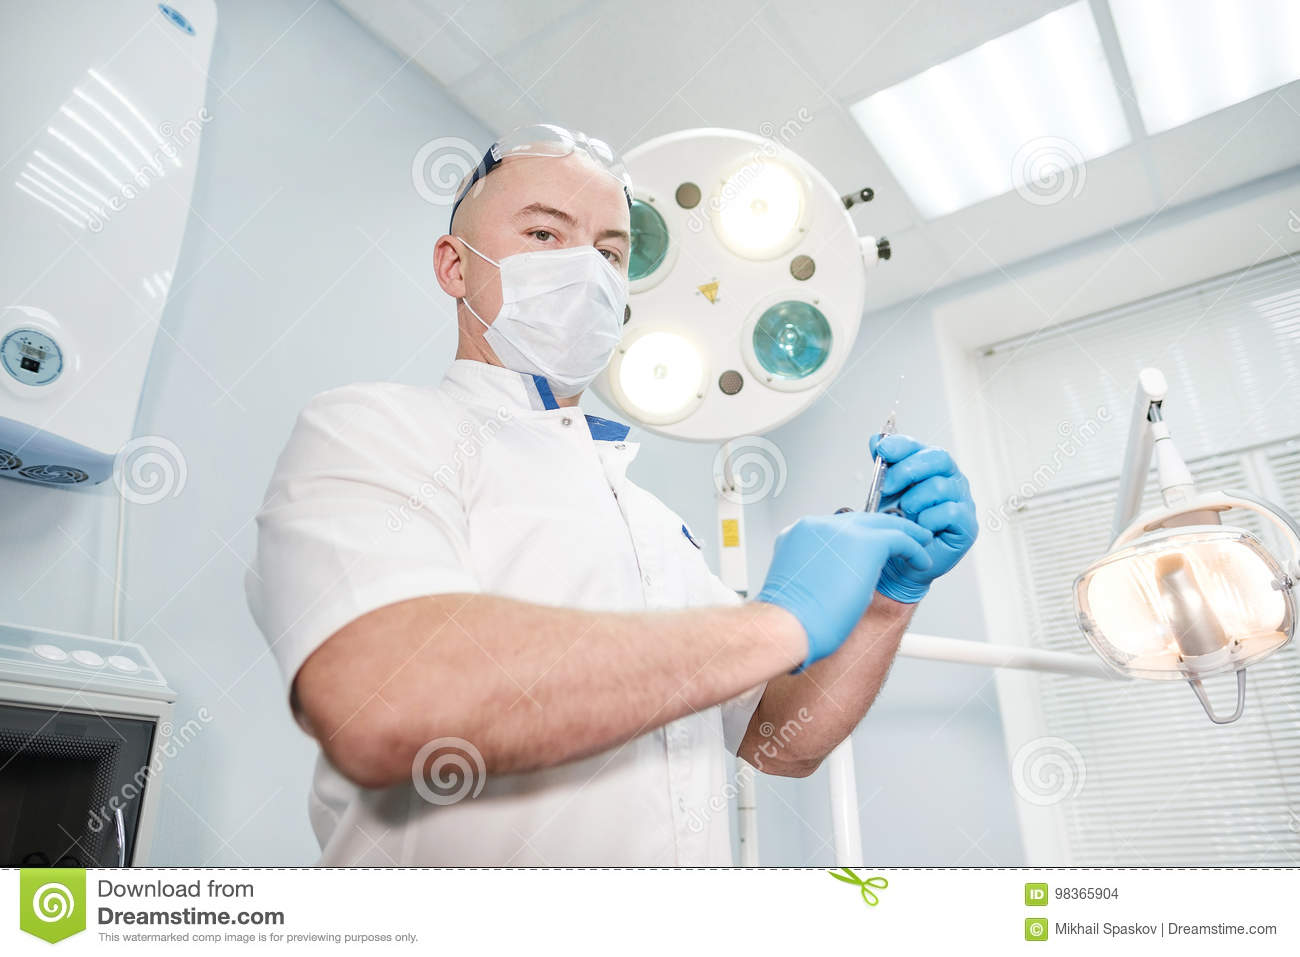mask: (486, 245, 633, 389)
